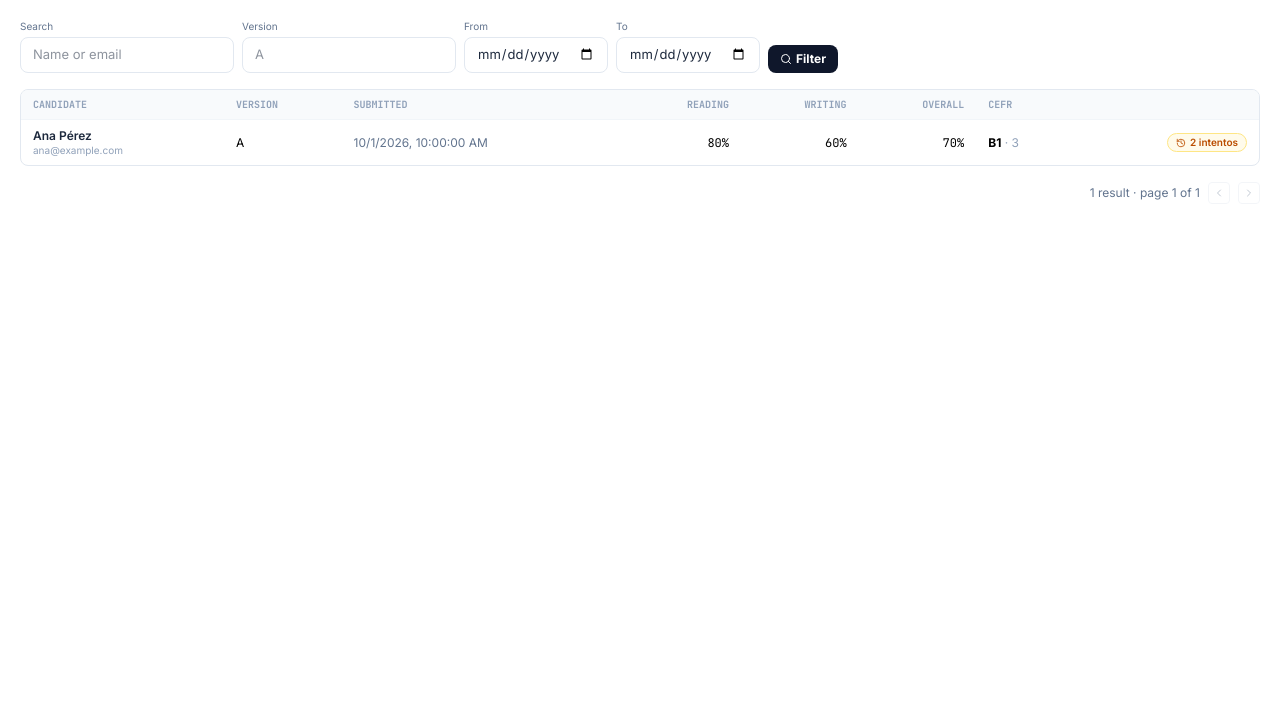
ResultsTab › shows grader, model CEFR and the provisional flag in the detail
Step 1. Click the text "ana@example.com" → [78, 150], box [33,144,123,156]
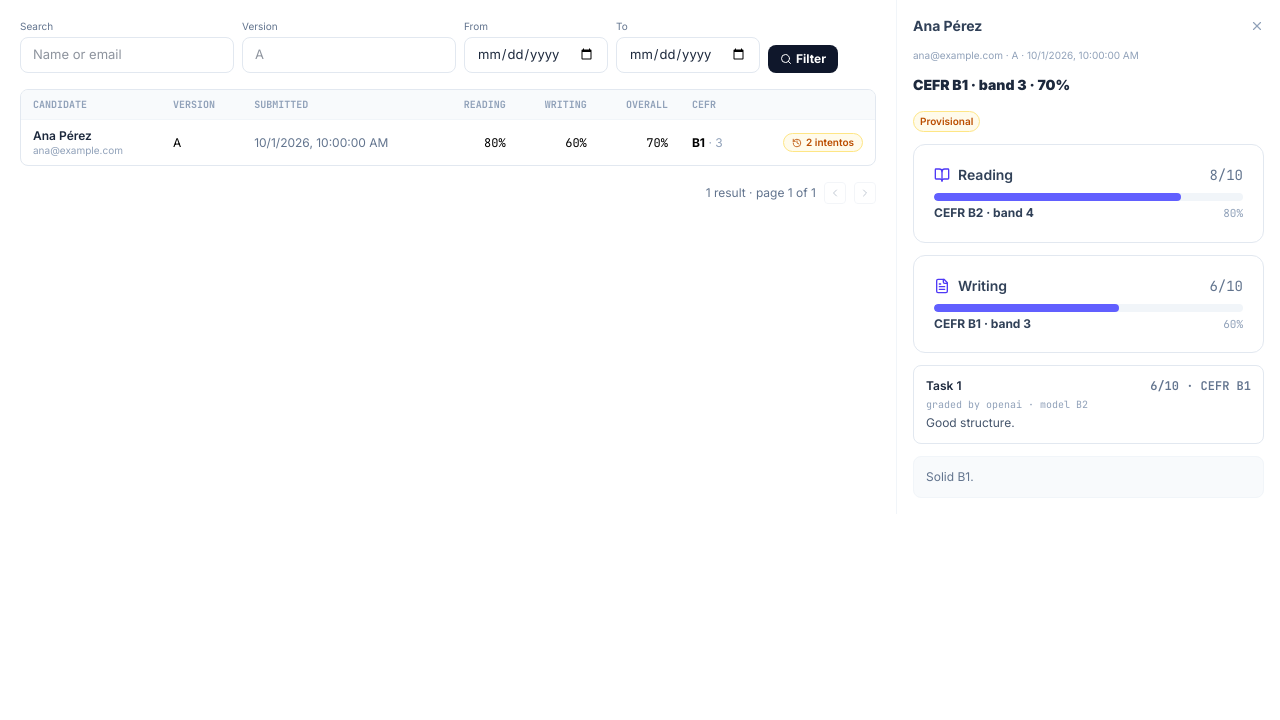
expect the element named "Attempt detail" shows "Provisional": met, box [920,115,973,127]
expect the element named "Attempt detail" shows "openai": met, box [986,398,1022,411]
expect the element named "Attempt detail" shows "model B2": met, box [896,0,1279,514]
